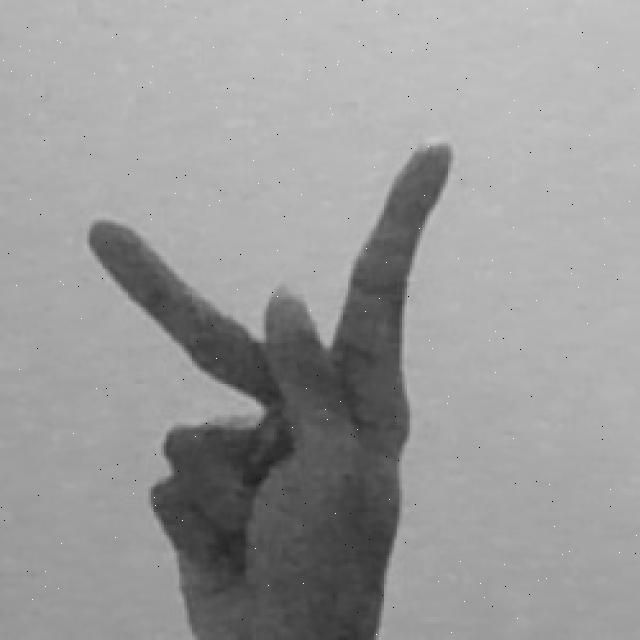K: (84, 140, 458, 640)
